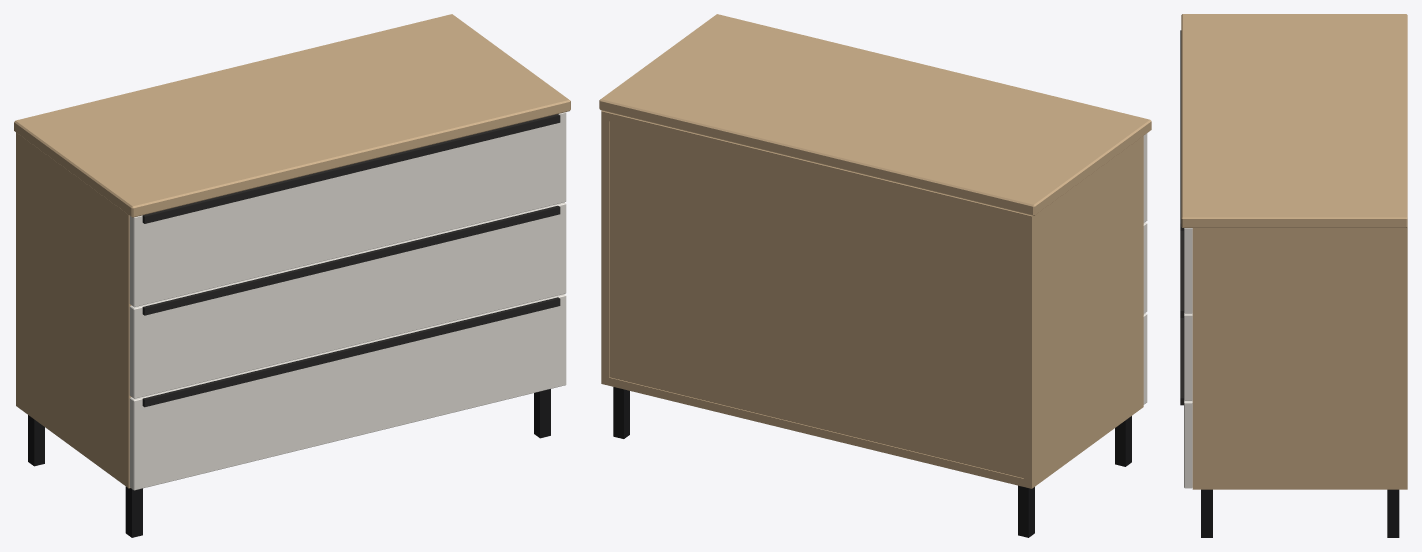
The model's file is 14_komoda_100_3sz.glb.
3 renders of one model, left to right at view 1: azimuth 30°, elevation 25°; view 2: azimuth 150°, elevation 25°; view 3: azimuth 270°, elevation 25°, orthographic. The views are drawn at different scales.
Visible parts, largest first — view 1: Wierzch, Front_szuflada_3, Front_szuflada_2, Front_szuflada_1, Korpus, Uchwyty, Nogi; view 2: Korpus, Wierzch, Nogi; view 3: Korpus, Wierzch, Nogi, Uchwyty, Front_szuflada_2, Front_szuflada_3, Front_szuflada_1.
Boxes of the visible parts, x1,y1,x2,y2 form: Wierzch: (14, 14, 570, 217); Front_szuflada_3: (129, 294, 566, 490); Front_szuflada_2: (129, 202, 566, 398); Front_szuflada_1: (129, 112, 566, 307); Korpus: (16, 132, 131, 488); Uchwyty: (142, 114, 560, 407); Nogi: (28, 389, 550, 537); Korpus: (601, 111, 1143, 488); Wierzch: (599, 14, 1151, 215); Nogi: (613, 387, 1131, 537); Korpus: (1192, 227, 1407, 489); Wierzch: (1181, 14, 1407, 227); Nogi: (1201, 489, 1399, 537); Uchwyty: (1180, 30, 1183, 405); Front_szuflada_2: (1184, 313, 1192, 400); Front_szuflada_3: (1184, 400, 1192, 488); Front_szuflada_1: (1184, 228, 1192, 313).
Bounding box in the file's own units: 1.01 × 0.75 × 0.476.
